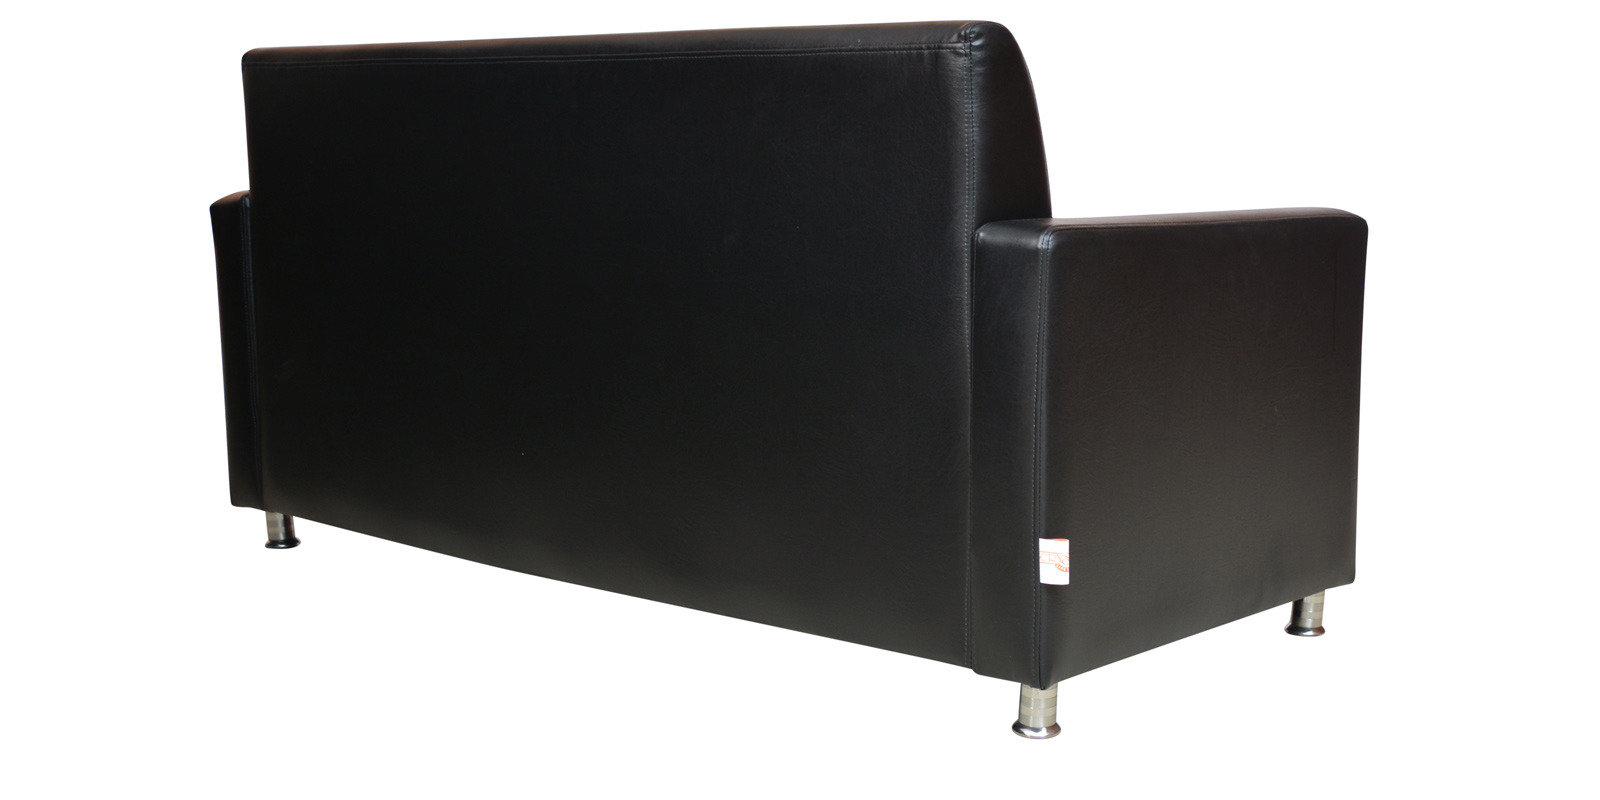Felix Three Seater Sofa in Black Leatherette by Crystal Furnitech: (213, 13, 1407, 758)
